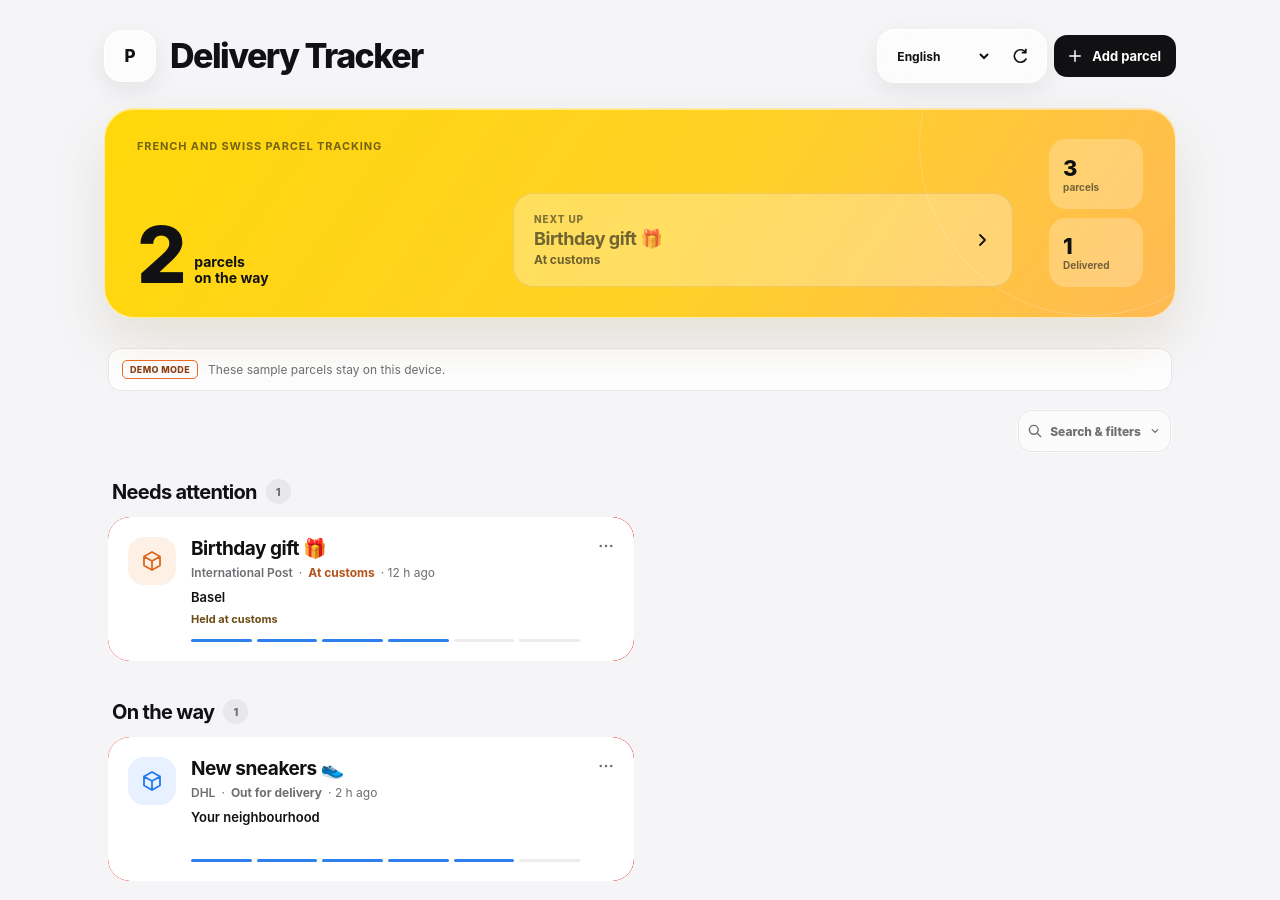
Test: App › opens the next parcel from the summary
What coordinates should you click on to do the following:
click the button with aria-label "next up: birthday gift"
I would click on:
 (559, 219)
Its box is [513, 193, 1013, 287].
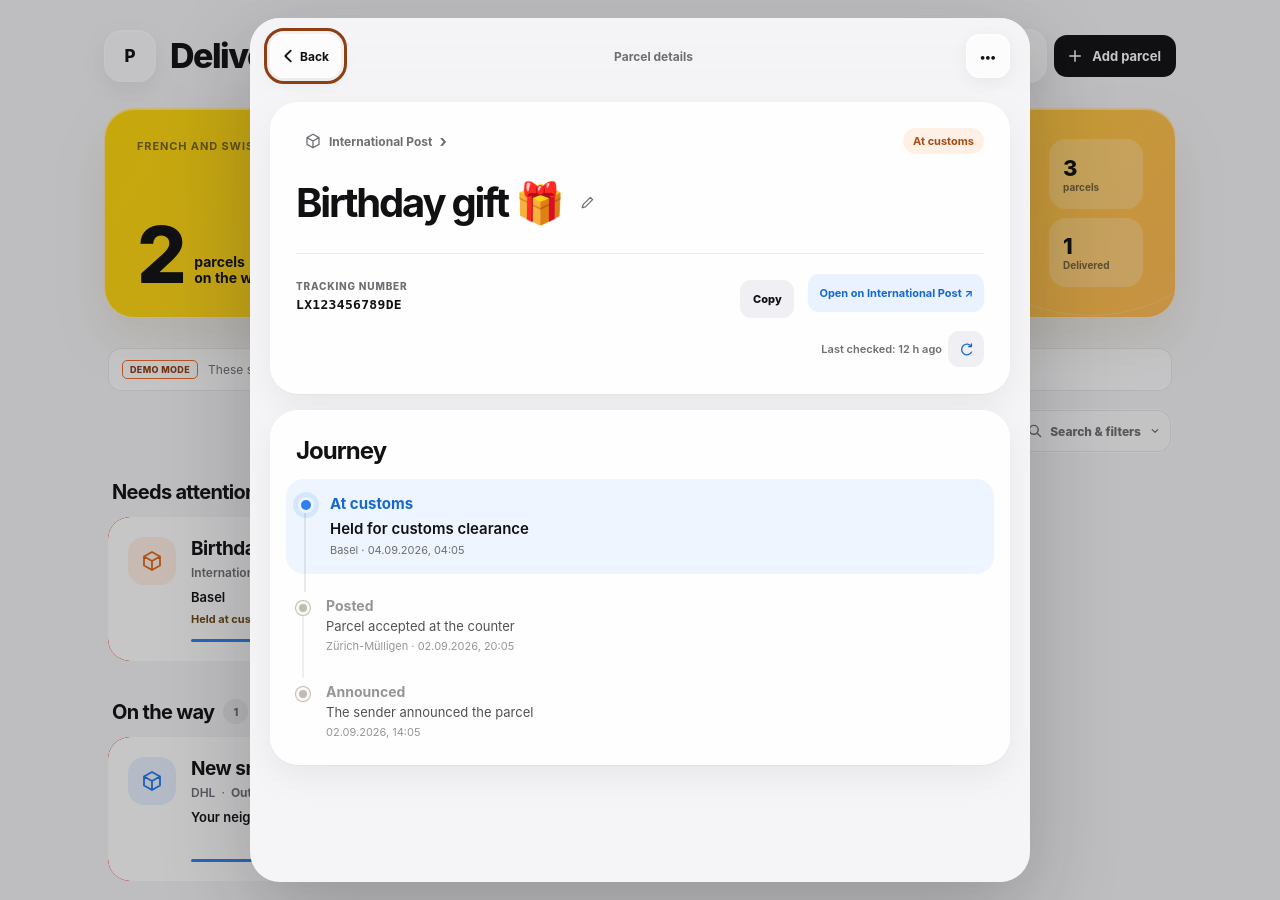
Check: the dialog "Birthday gift 🎁" is shown, box [250, 18, 1030, 882]
